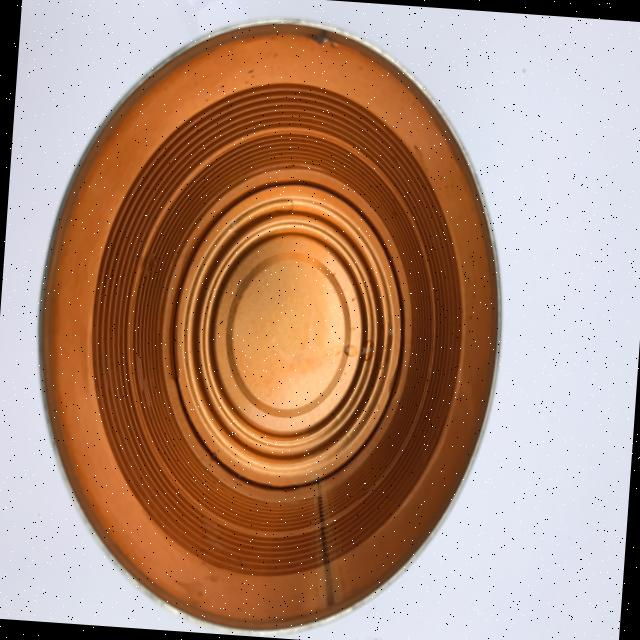metal: (16, 0, 522, 640)
